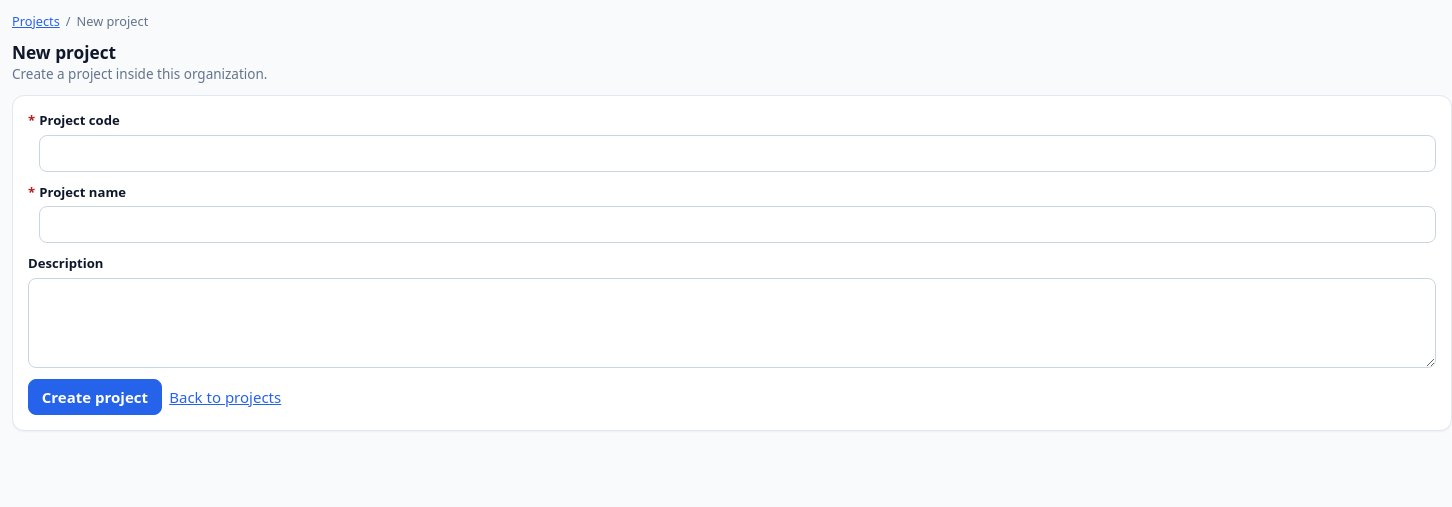
project screens › shows a duplicate-code error from the API
This screenshot has width=1452, height=507.
In the field labelled "Project code": [738, 153] box x1=39 y1=135 x2=1436 y2=172, type "N-1"
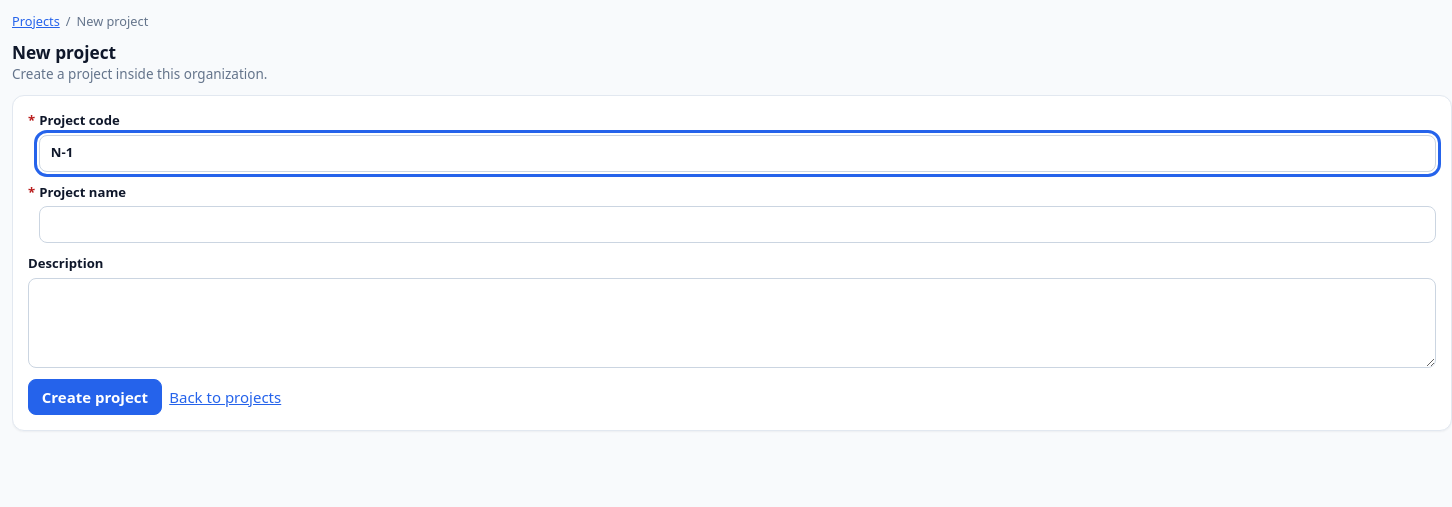
In the field labelled "Project name": [738, 225] box x1=39 y1=206 x2=1436 y2=243, type "North yard"
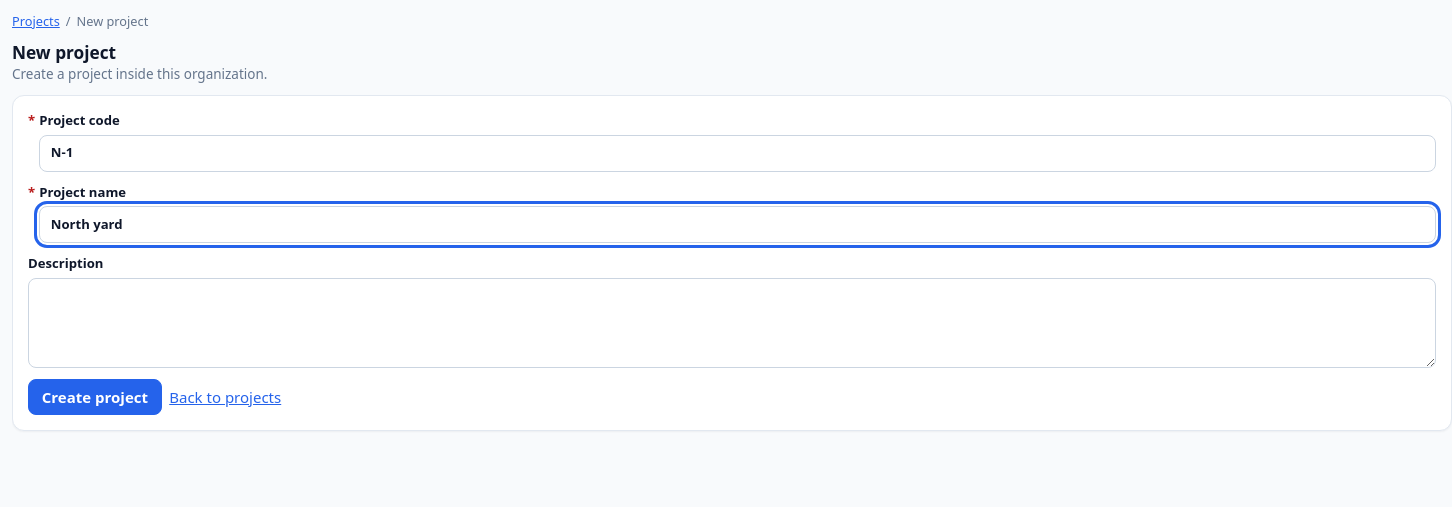
Click the button "Create project": [95, 397] box x1=28 y1=379 x2=162 y2=415
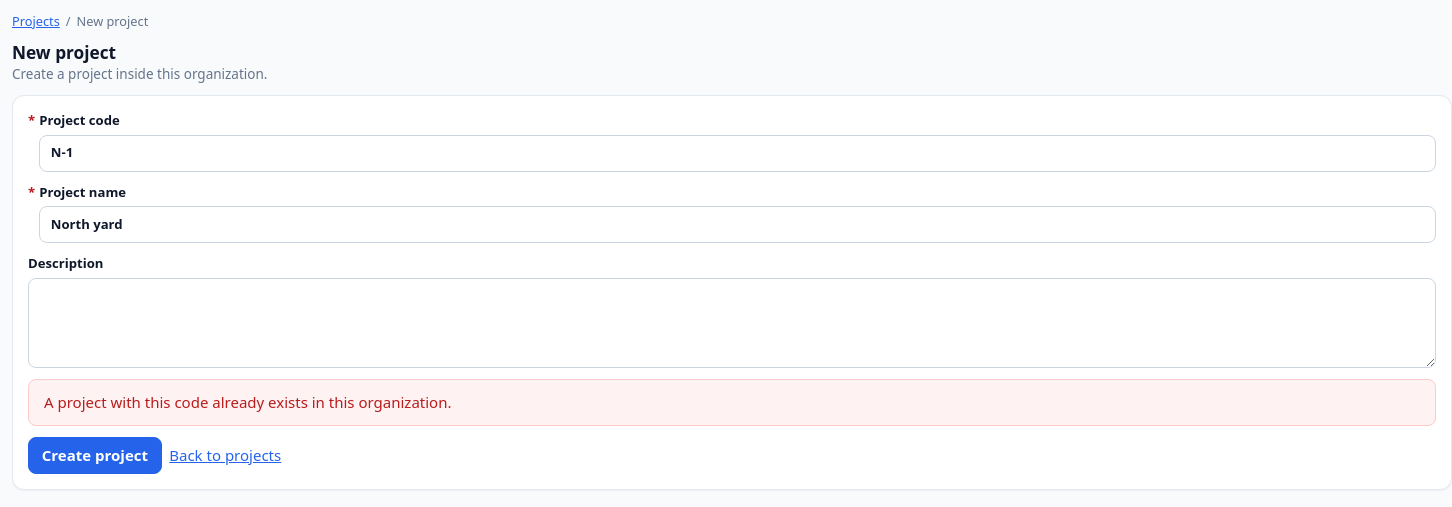
Check: the message reads "A project with this code already exists in this organization.", box x1=44 y1=392 x2=452 y2=412
